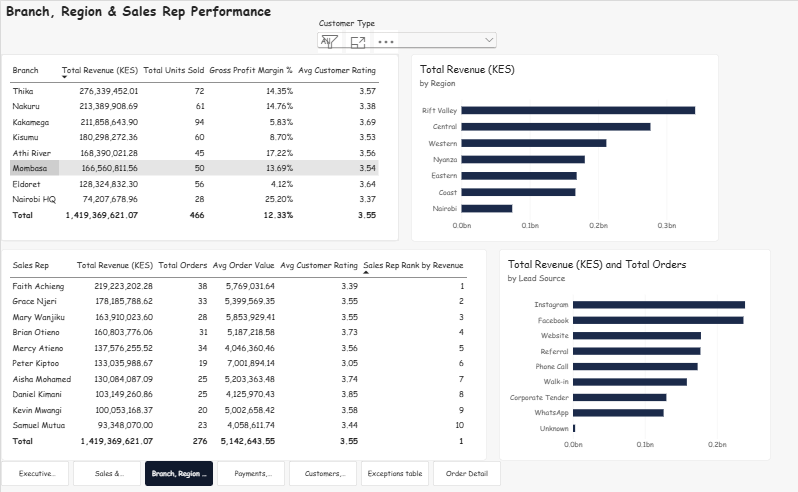

The dashboard page shown, as its layout file describes it:
{"tool":"powerbi","page":{"name":"Branch, Region & Sales Rep Performance","canvas":[1920,1080],"ordinal":2},"visuals":[{"type":"textbox","box":[10.2,0,592.3,62.7],"z":0},{"type":"clusteredBarChart","fields":{"Category":["Dim_Branch.Region"],"Y":["_Measures.Total Revenue (KES)"]},"box":[819.9,105,615.7,375],"z":1000},{"type":"tableEx","fields":{"Values":["Dim_Branch.Branch","_Measures.Total Revenue (KES)","_Measures.Total Units Sold","_Measures.Gross Profit Margin %","_Measures.Avg Customer Rating"]},"box":[0,105,795.1,375],"z":2000},{"type":"tableEx","fields":{"Values":["Dim_Branch.Sales Rep","_Measures.Total Revenue (KES)","_Measures.Total Orders","_Measures.Avg Order Value","_Measures.Avg Customer Rating","_Measures.Sales Rep Rank by Revenue"]},"box":[0,496,971.7,423.1],"z":3000},{"type":"clusteredBarChart","fields":{"Category":["Fact_Sales.Lead Source"],"Y":["_Measures.Total Revenue (KES)"]},"box":[996.5,496,544.2,423.1],"z":4000},{"type":"slicer","fields":{"Values":["Dim_Customer.Customer Type"]},"box":[628.8,32.1,367.7,77.3],"z":5000},{"type":"pageNavigator","box":[0,919.1,1000,50],"z":6000}]}

Visuals, with their boxes on the page's 1920x1080 design canvas (x1, y1, x2, y2). These are canvas units, not pixel positions in the 798x492 screenshot, which may show the page scaled, cropped or inside an application window:
textbox: detection(10, 0, 602, 63)
clusteredBarChart - Dim_Branch.Region x _Measures.Total Revenue (KES): detection(820, 105, 1436, 480)
tableEx - Dim_Branch.Branch x _Measures.Total Revenue (KES): detection(0, 105, 795, 480)
tableEx - Dim_Branch.Sales Rep x _Measures.Total Revenue (KES): detection(0, 496, 972, 919)
clusteredBarChart - Fact_Sales.Lead Source x _Measures.Total Revenue (KES): detection(996, 496, 1541, 919)
slicer - Dim_Customer.Customer Type: detection(629, 32, 996, 109)
pageNavigator: detection(0, 919, 1000, 969)
